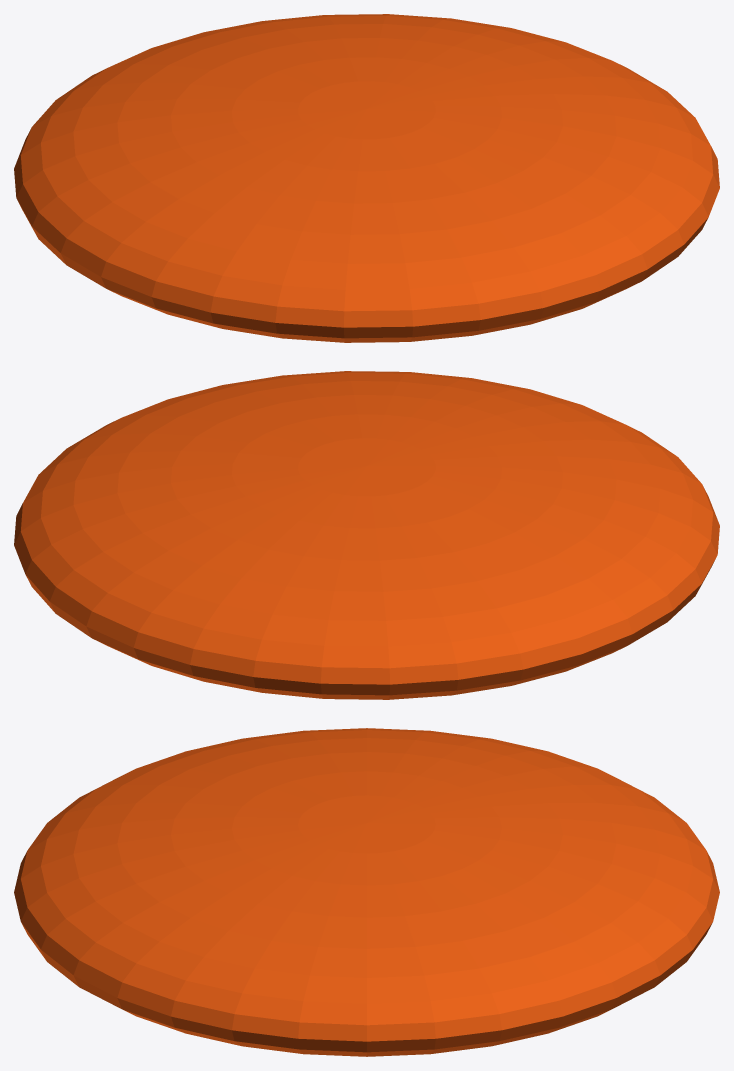
The model's file is characterballMesh.glb.
3 views of the same model, one above another, from view 1: azimuth 30°, elevation 25°; view 2: azimuth 150°, elevation 25°; view 3: azimuth 270°, elevation 25° (orthographic).
Visible parts, largest first — view 1: characterball; view 2: characterball; view 3: characterball.
Part boxes in pixels (x1=…): characterball: x1=14, y1=14, x2=719, y2=342; characterball: x1=14, y1=371, x2=719, y2=699; characterball: x1=14, y1=728, x2=719, y2=1056.
Bounding box in the file's own units: 6 × 1.3 × 6.
